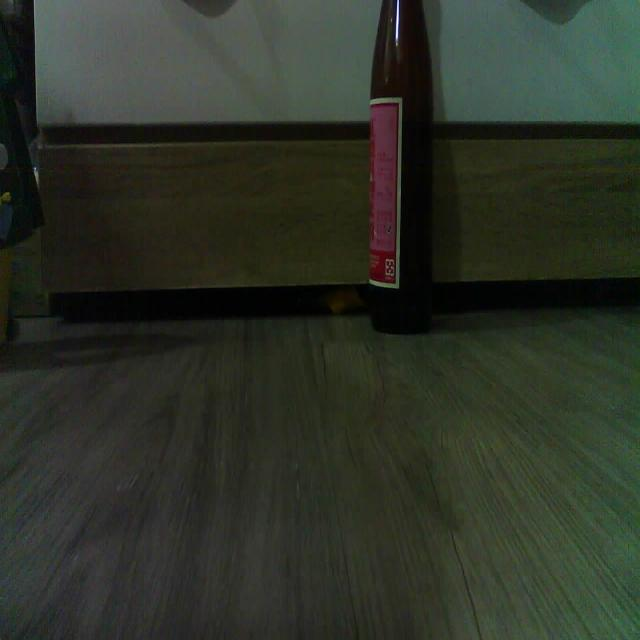bottle: (368, 0, 434, 332)
